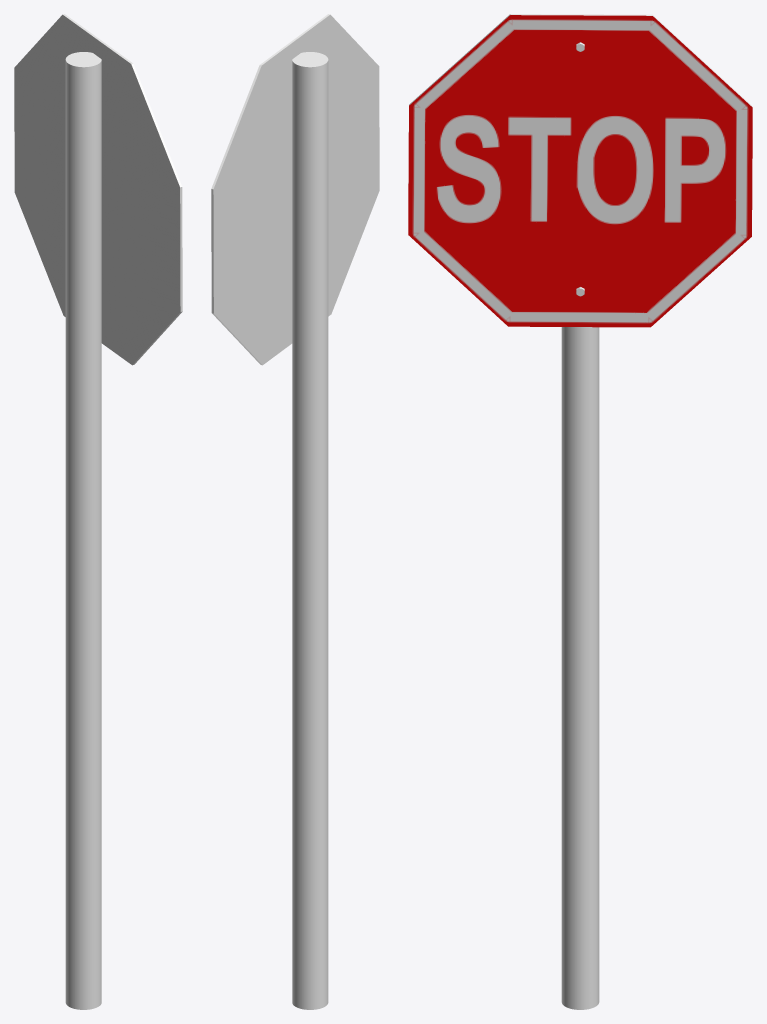
Rendered from stopsign.dae.
The picture shows the model from 3 angles, left to right: view 1: azimuth 30°, elevation 25°; view 2: azimuth 150°, elevation 25°; view 3: azimuth 270°, elevation 25°; orthographic projection. The views are drawn at different scales.
Visible parts, largest first — view 1: Cylinder, Cylinder_001; view 2: Cylinder, Cylinder_001; view 3: Cylinder_001, Cylinder.
Boxes of the visible parts, x1,y1,x2,y2 form: Cylinder: (65,52,101,1009); Cylinder_001: (14,14,182,365); Cylinder: (292,52,328,1009); Cylinder_001: (211,14,379,365); Cylinder_001: (408,14,752,327); Cylinder: (561,327,599,1009).
Size of the model in its own units: 220 by 1852 by 5900.
Materials: 3 (3 with a texture image).
